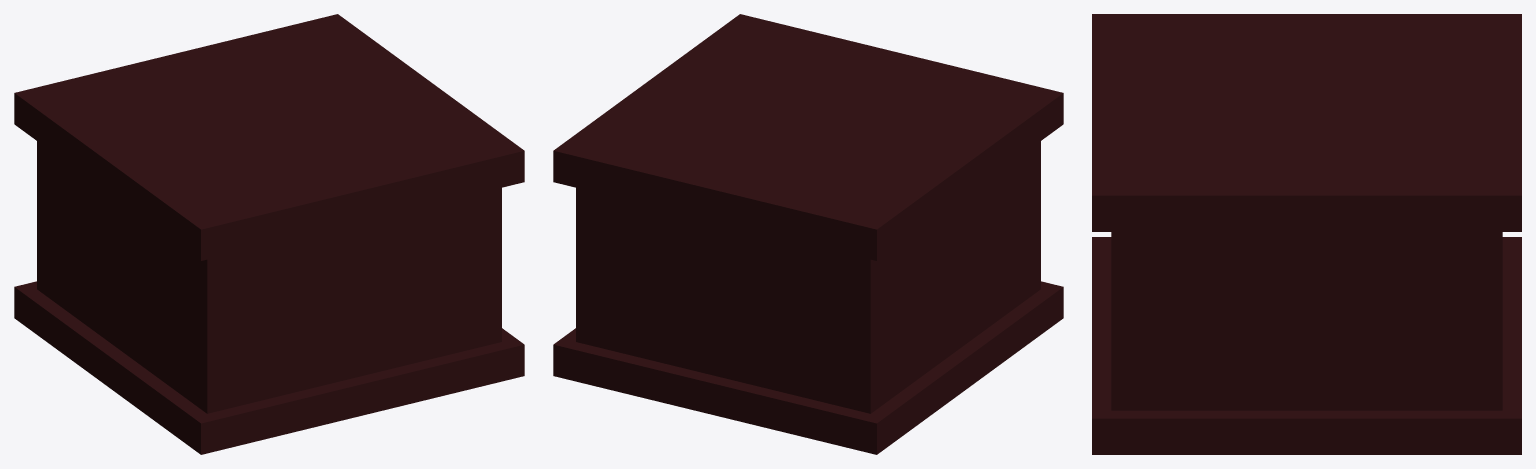
File: GPE_SnakeBodyRing.fbx
3 renders of one model, left to right at view 1: azimuth 30°, elevation 25°; view 2: azimuth 150°, elevation 25°; view 3: azimuth 270°, elevation 25°, orthographic. The views are drawn at different scales.
Parts seen in each view (by area): view 1: Cube.213; view 2: Cube.213; view 3: Cube.213.
Part boxes in pixels (x1,y1,x2,y2): Cube.213: [14, 14, 524, 454]; Cube.213: [553, 14, 1063, 454]; Cube.213: [1092, 14, 1521, 454].
Size of the model in its own units: 415 by 276 by 415.
